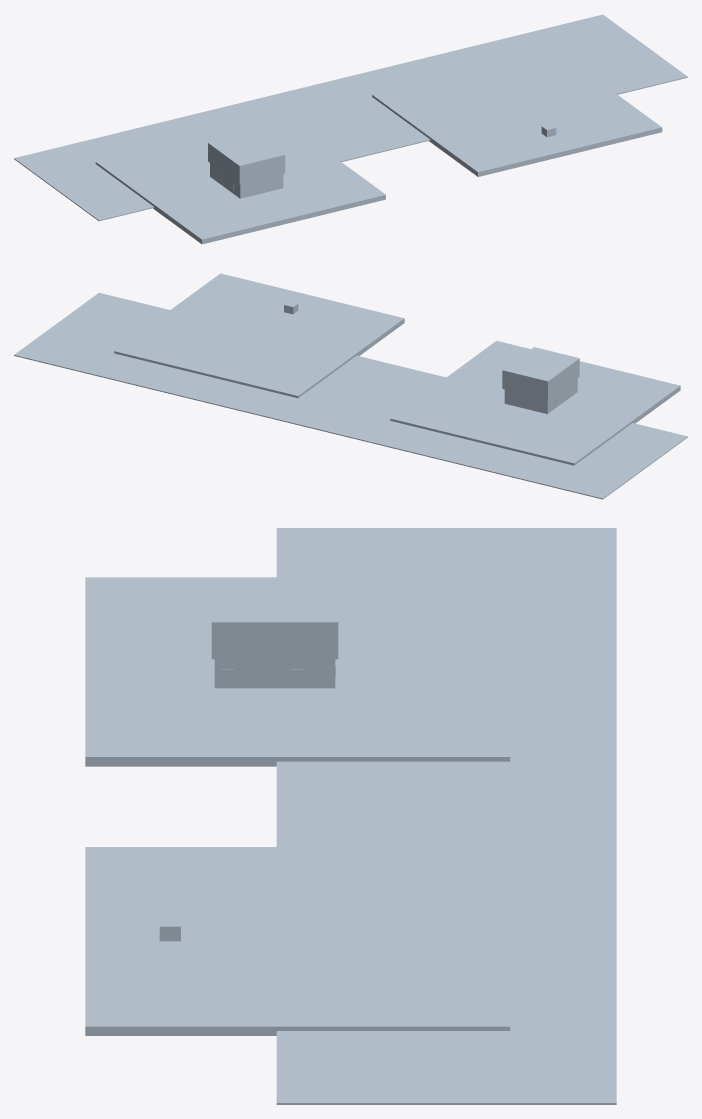
File: map.gltf
3 renders of one model, top to bottom at view 1: azimuth 30°, elevation 25°; view 2: azimuth 150°, elevation 25°; view 3: azimuth 270°, elevation 25°, orthographic. The views are drawn at different scales.
Visible parts, largest first — view 1: untouched_ground, residential_ground, pavement_65ed056dbc0335a35ab7, pavement_9f4cb035258a4eec34b9, pavement_993600ba1e5c0bde643e, pavement_bf2adbf77bde4c66c808, obj_67, obj_39; view 2: untouched_ground, residential_ground, pavement_65ed056dbc0335a35ab7, pavement_9f4cb035258a4eec34b9, pavement_993600ba1e5c0bde643e, pavement_bf2adbf77bde4c66c808, obj_67, obj_39; view 3: untouched_ground, residential_ground, pavement_65ed056dbc0335a35ab7, pavement_993600ba1e5c0bde643e, pavement_9f4cb035258a4eec34b9, pavement_bf2adbf77bde4c66c808, obj_67, obj_39.
Part boxes in pixels (x1,y1,x2,y2): untouched_ground: (372,49,662,176); residential_ground: (95,117,385,244); pavement_65ed056dbc0335a35ab7: (456,14,687,94); pavement_9f4cb035258a4eec34b9: (14,122,184,221); pavement_993600ba1e5c0bde643e: (161,86,393,161); pavement_bf2adbf77bde4c66c808: (309,50,479,149); obj_67: (208,131,285,184); obj_39: (210,163,283,198); untouched_ground: (114,273,404,398); residential_ground: (390,340,680,465); pavement_65ed056dbc0335a35ab7: (14,292,187,391); pavement_9f4cb035258a4eec34b9: (455,423,687,499); pavement_993600ba1e5c0bde643e: (308,364,481,463); pavement_bf2adbf77bde4c66c808: (161,355,392,427); obj_67: (502,347,579,399); obj_39: (504,378,577,413); untouched_ground: (85,847,510,1035); residential_ground: (85,577,510,766); pavement_65ed056dbc0335a35ab7: (276,959,616,1104); pavement_993600ba1e5c0bde643e: (276,671,616,815); pavement_9f4cb035258a4eec34b9: (276,528,616,671); pavement_bf2adbf77bde4c66c808: (276,815,616,959); obj_67: (211,577,338,659); obj_39: (214,659,335,688).
Bounding box in the file's own units: 128 × 8.71 × 50.
